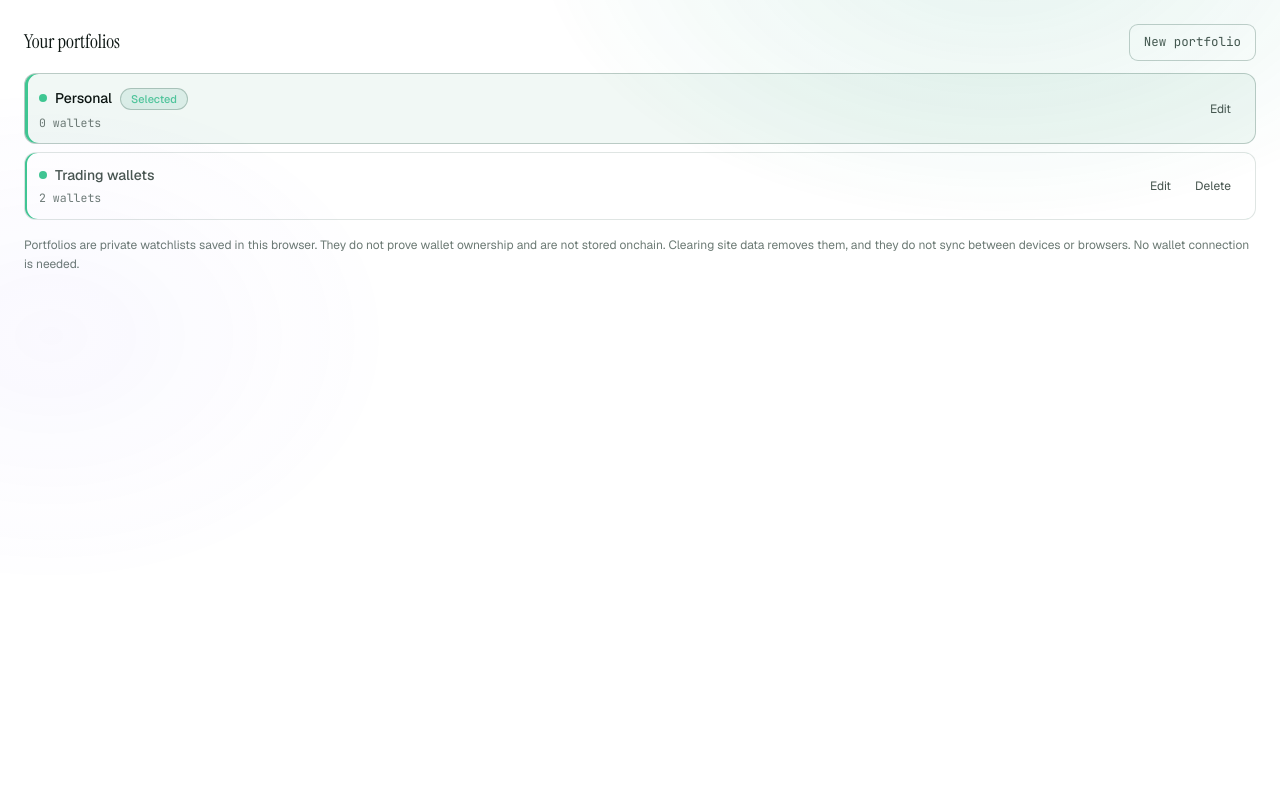
it: actions do not trigger selection › Delete opens the confirmation without selecting
This screenshot has width=1280, height=800.
What coordinates should you click on to do the following:
click the button "Delete"
I would click on:
 (1213, 186)
Its box is [1185,172,1241,200].
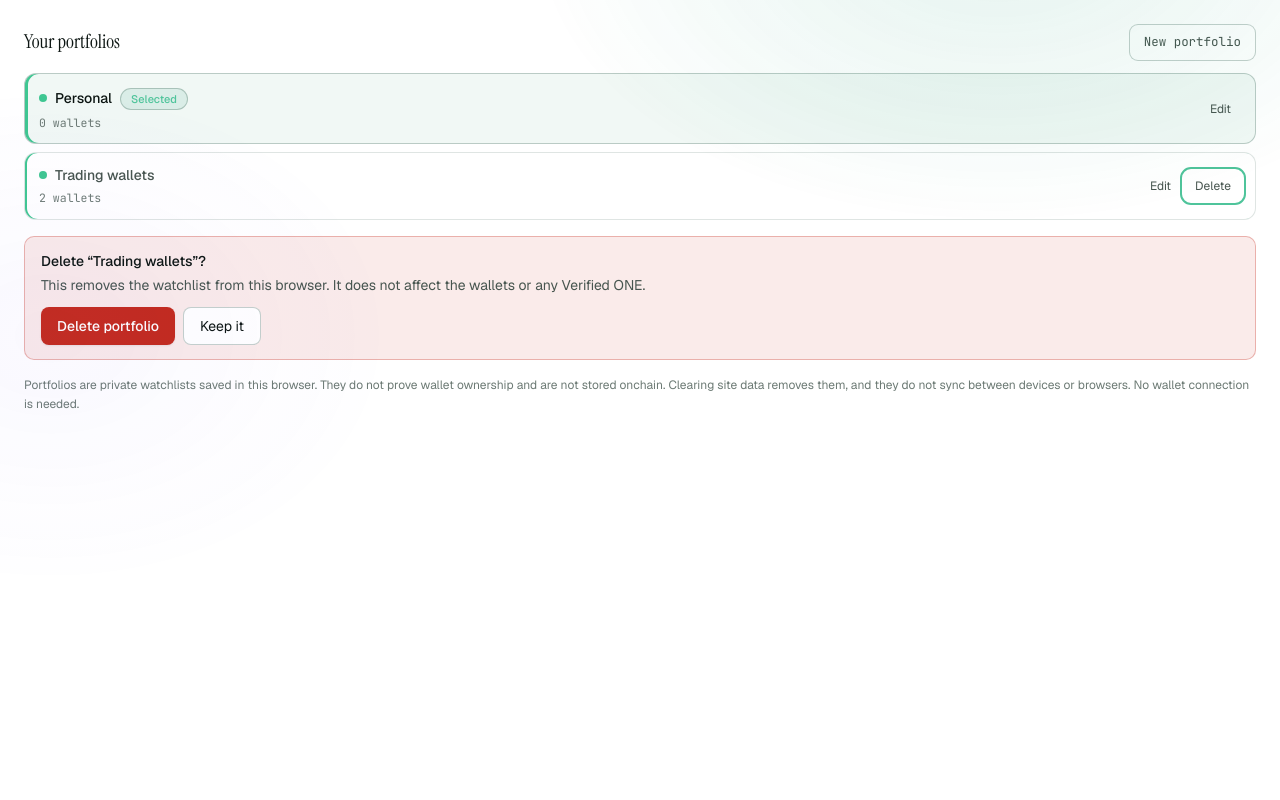
Expected: the dialog is shown, [24,236,1256,360]
